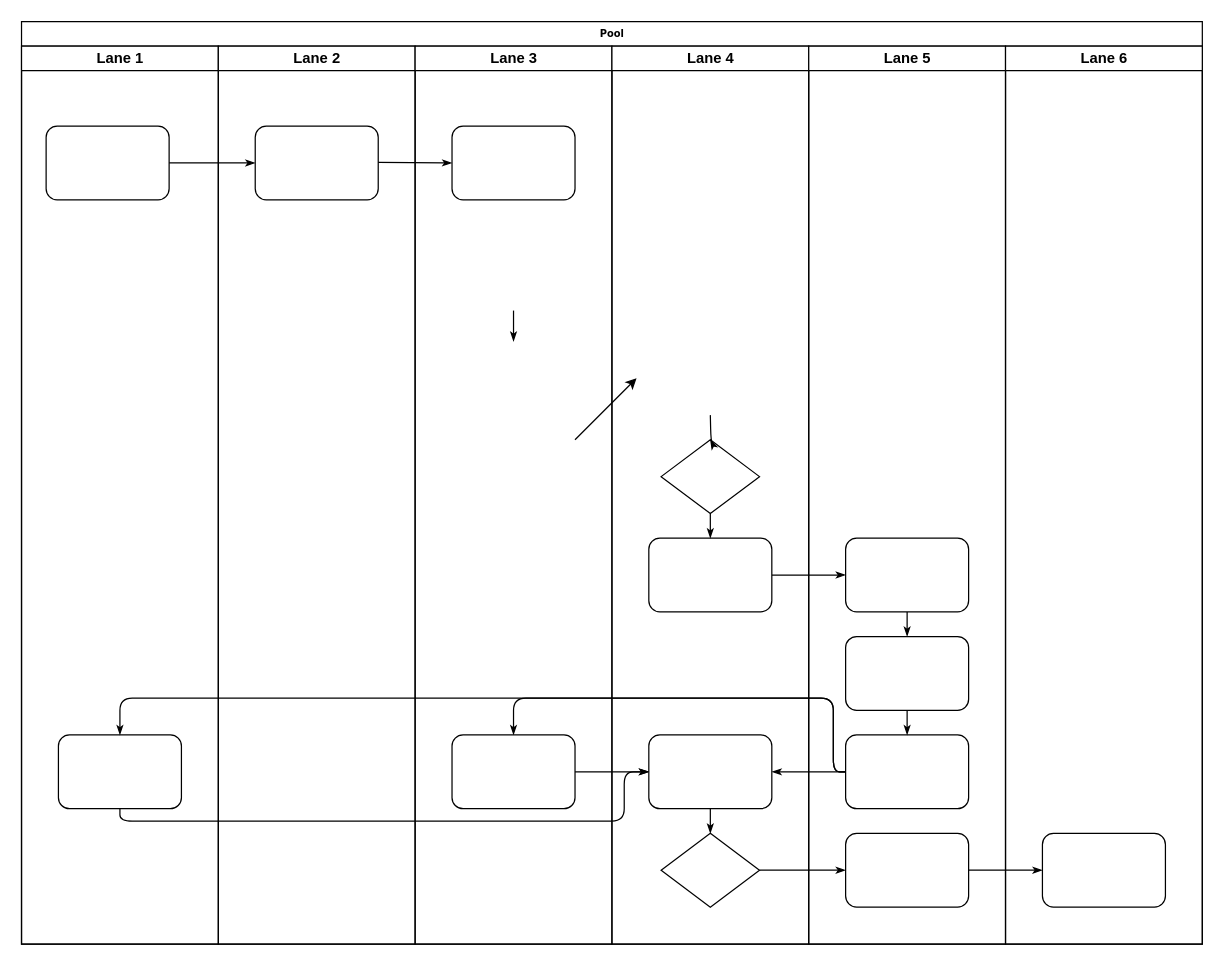
This 1224x966 diagram has some shape labels left out. The shapes that lost their labels are listed below. From the top down, each one's centre as x and y in pixels, then its label:
At point 107,162: "General population (N>>1)".
At point 316,162: "Sample".
At point 513,162: "F(x)".
